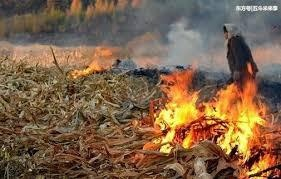fire: (137, 58, 277, 168)
